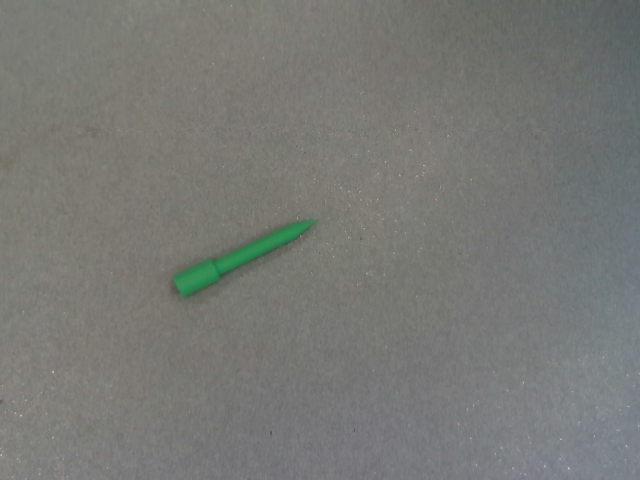Probe: (170, 212, 325, 303)
